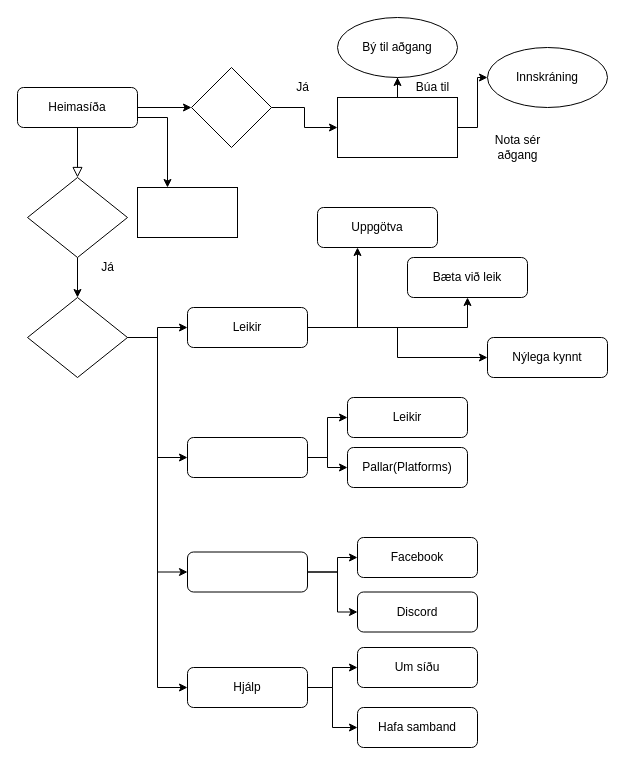
Image size: 625x765. Some labels were removed from this diagram. Each missing label, with the centre of its shape:
DataBase: the point at 247,457
Hvaða tengla?: the point at 77,337
Nota sér aðgang eða búa til?: the point at 397,127
Samfélög: the point at 247,571
Skoða nýtt efni í fréttum eða skilaboðum: the point at 187,212
Skrá inn?: the point at 231,107
Velja tengla?: the point at 77,217
